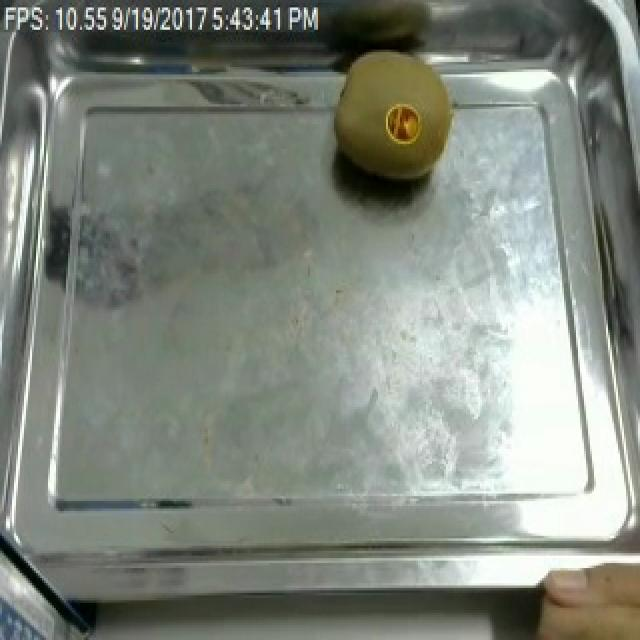Fruit: (326, 42, 472, 194), (520, 543, 640, 640)
